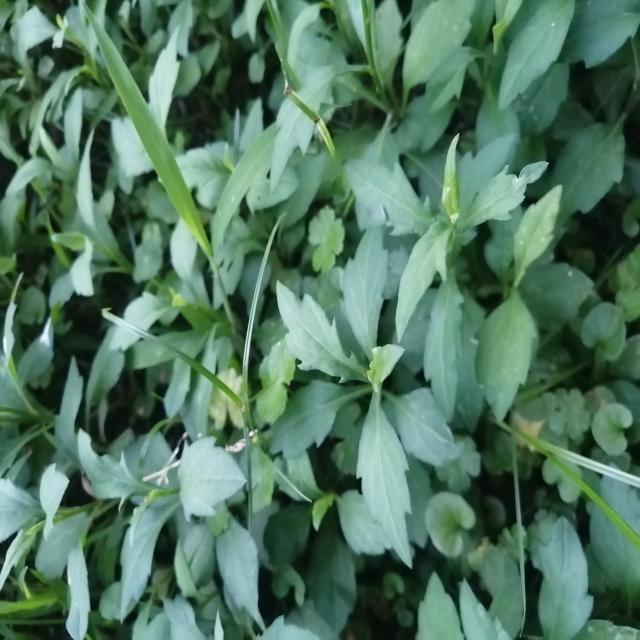Indian aster: (284, 225, 456, 527)
